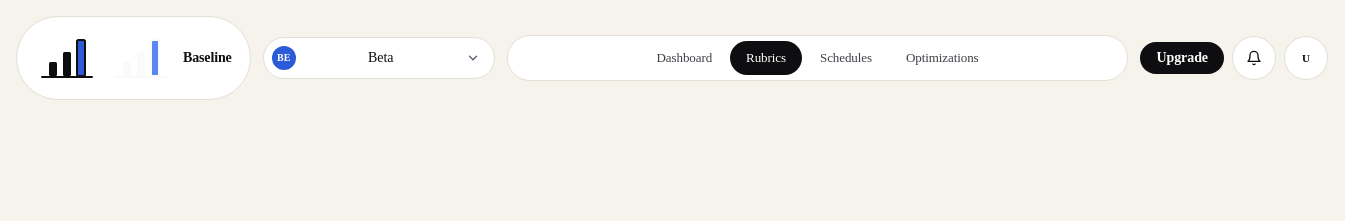
Scenario: NavBarClient › closes the switcher once the active org changes
Click the button with aria-label "Switch team": [379, 58] box [263, 37, 495, 79]
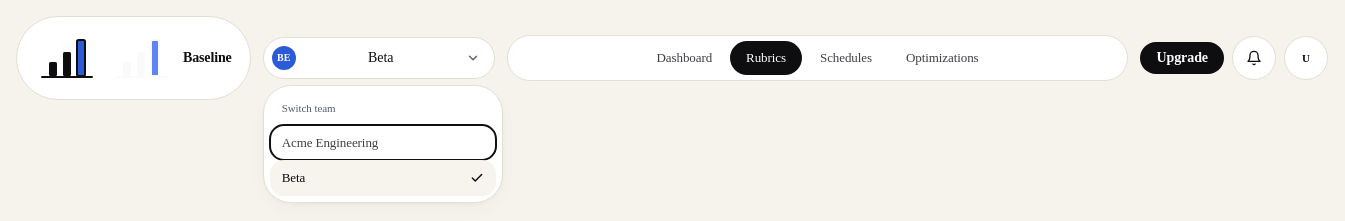
Expected: the menu is shown, [263, 85, 503, 202]
